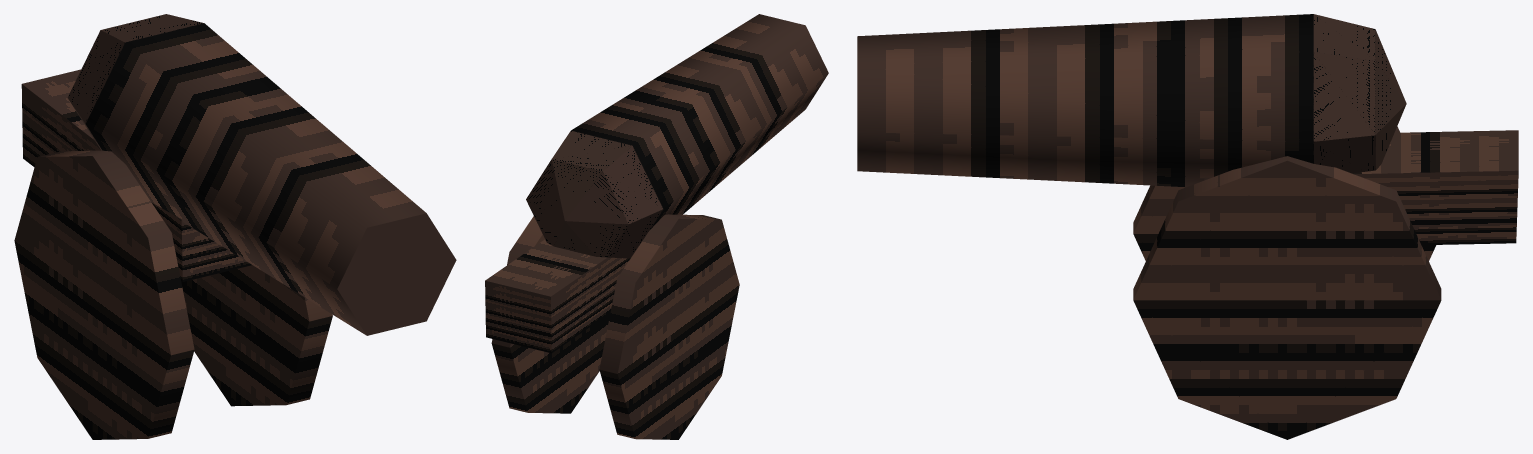
File: env_cannon_medium.glb
3 views of the same model, side by side, from view 1: azimuth 30°, elevation 25°; view 2: azimuth 150°, elevation 25°; view 3: azimuth 270°, elevation 25° (orthographic). The views are drawn at different scales.
Parts seen in each view (by area): view 1: env_cannon_medium; view 2: env_cannon_medium; view 3: env_cannon_medium.
Part boxes in pixels (x1,y1,x2,y2): env_cannon_medium: (14,14,456,439); env_cannon_medium: (485,14,828,439); env_cannon_medium: (857,14,1518,439).
Size of the model in its own units: 0.000346 by 0.000756 by 0.00122.
1 material, 1 textured.
